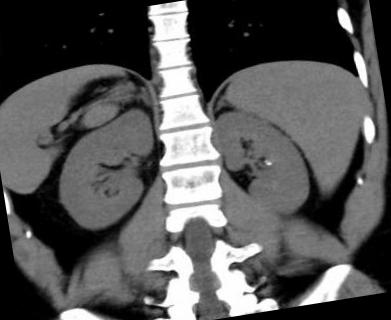Tas_Var: (262, 160, 274, 167), (262, 158, 268, 164)
